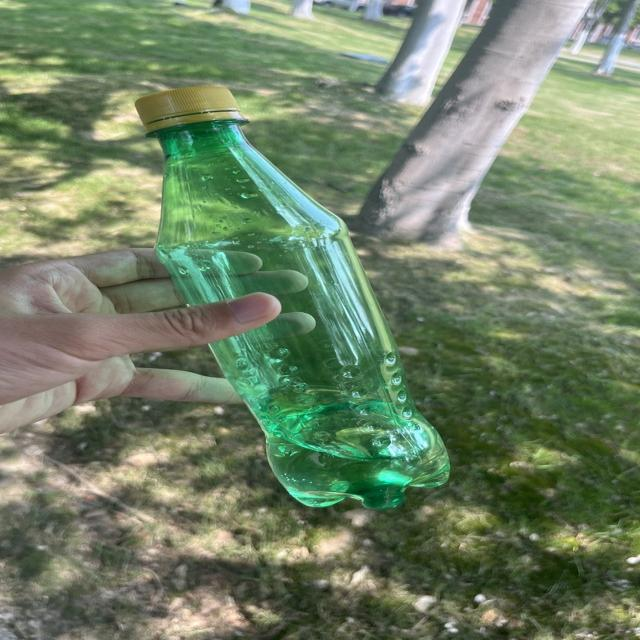low: (136, 87, 448, 508)
